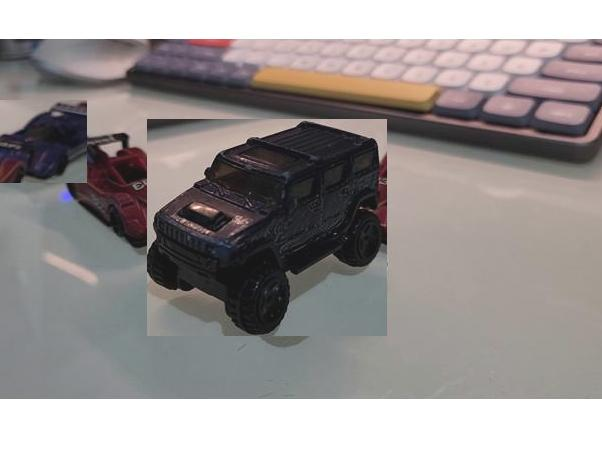toy-car: (146, 120, 386, 337), (56, 124, 152, 252), (0, 100, 87, 183)
